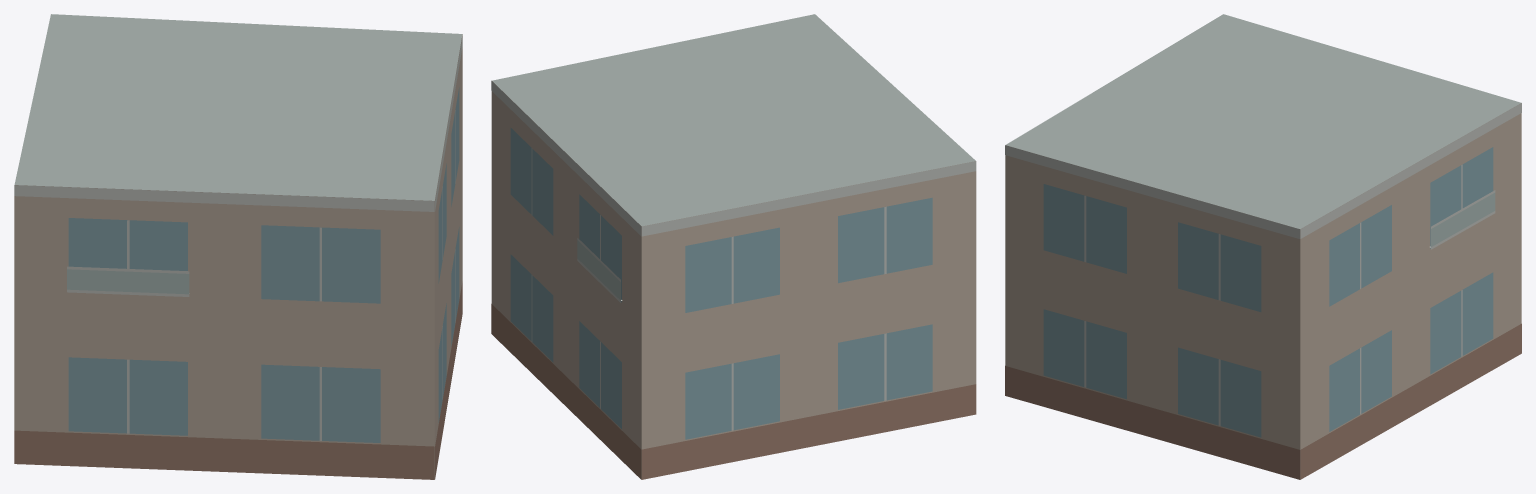
Rendered from survey-upis-32651995.glb.
3 views of the same model, side by side, from view 1: azimuth 30°, elevation 25°; view 2: azimuth 150°, elevation 25°; view 3: azimuth 270°, elevation 25° (orthographic). The views are drawn at different scales.
Parts seen in each view (by area): view 1: survey-upis-32651995.tmp; view 2: survey-upis-32651995.tmp; view 3: survey-upis-32651995.tmp.
Boxes of the visible parts, left/top/right/bottom form: survey-upis-32651995.tmp: left=14, top=14, right=462, bottom=479; survey-upis-32651995.tmp: left=491, top=14, right=976, bottom=479; survey-upis-32651995.tmp: left=1005, top=14, right=1521, bottom=479.
Bounding box in the file's own units: 11.24 × 6.1 × 11.4.
